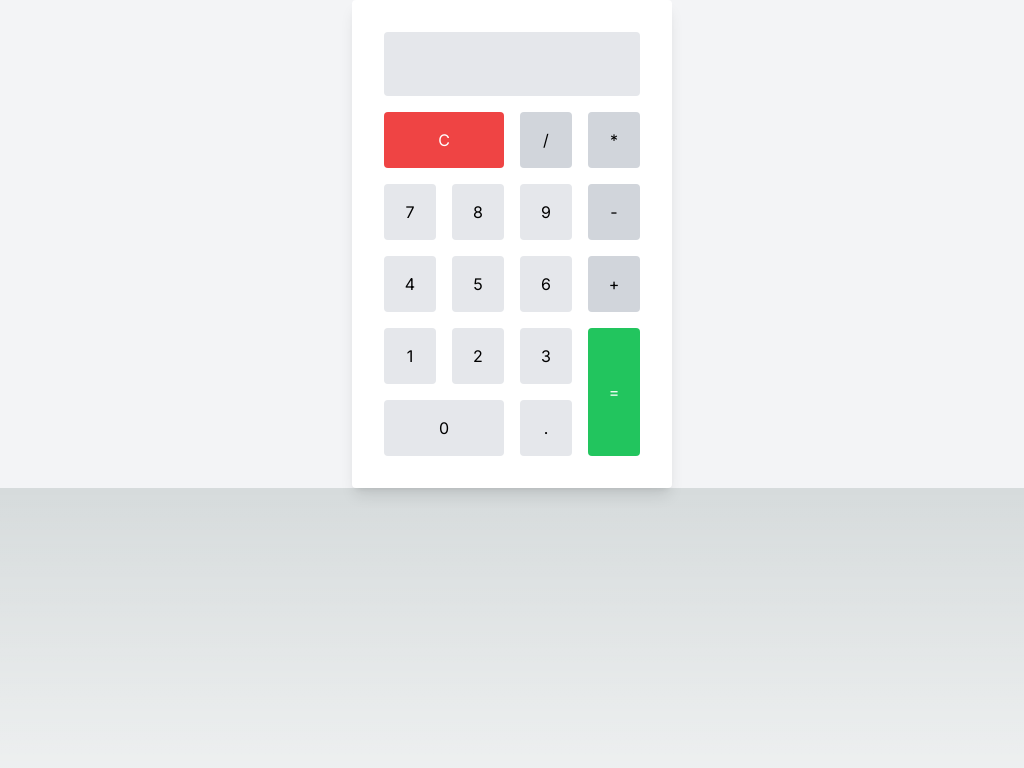
handles division by zero
Click the button "1".
click(410, 356)  # box [384,328,436,384]
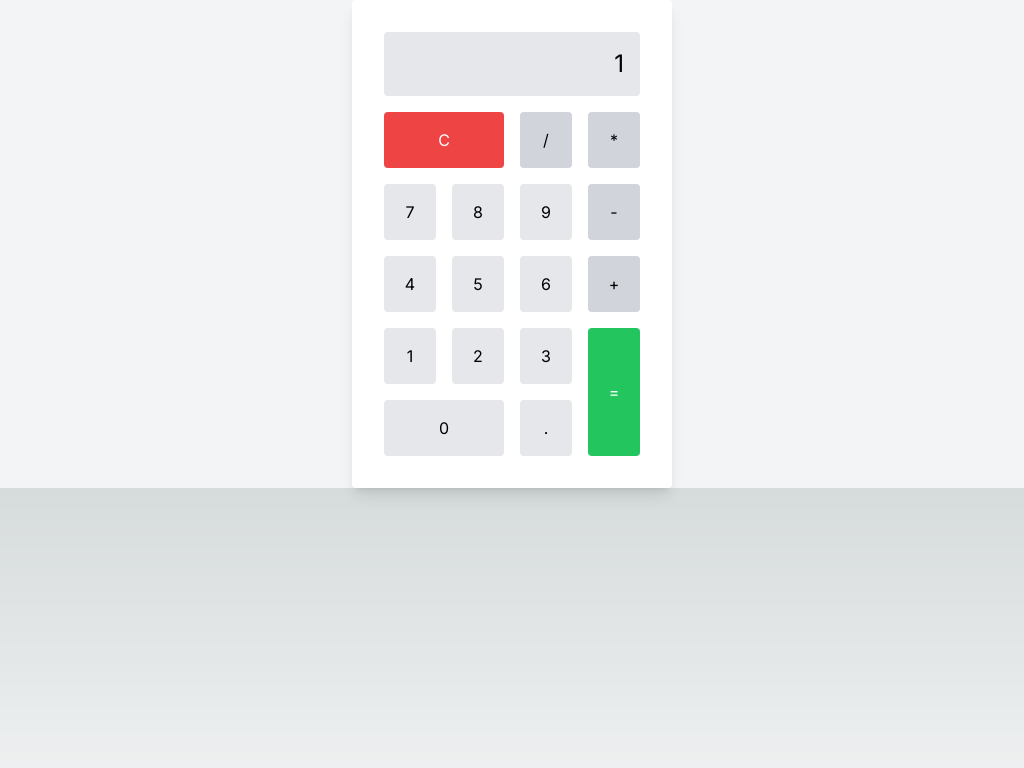
Click the button "/".
click(546, 140)  # box [520,112,572,168]
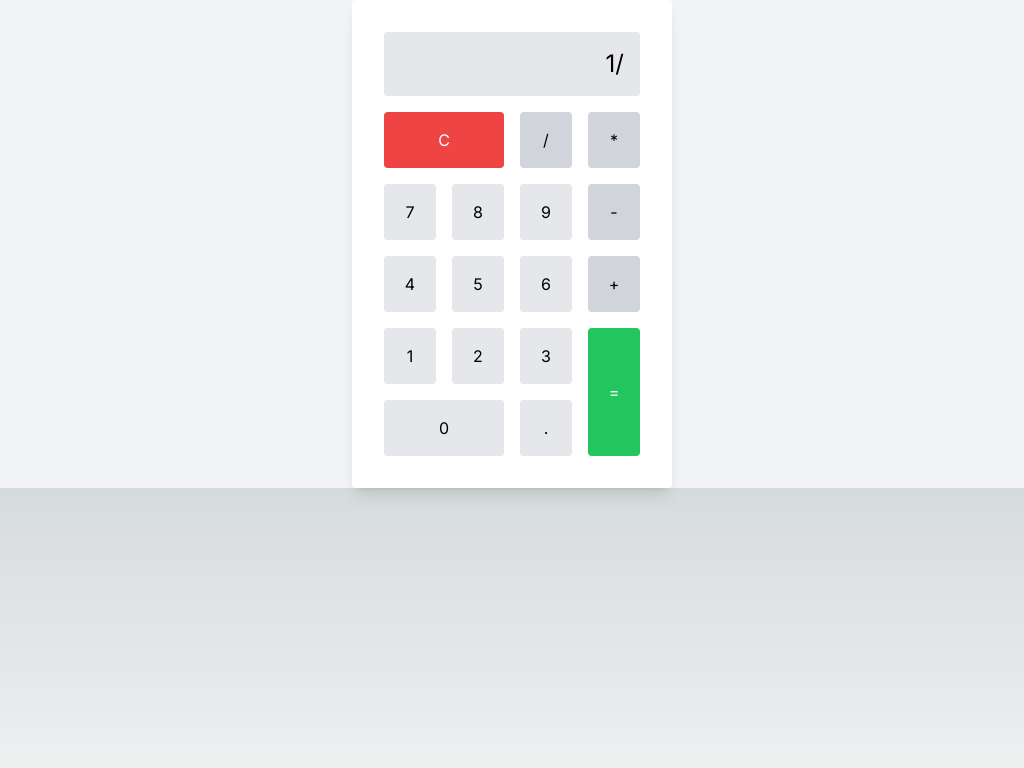
Click the button "0".
click(444, 428)  # box [384,400,504,456]
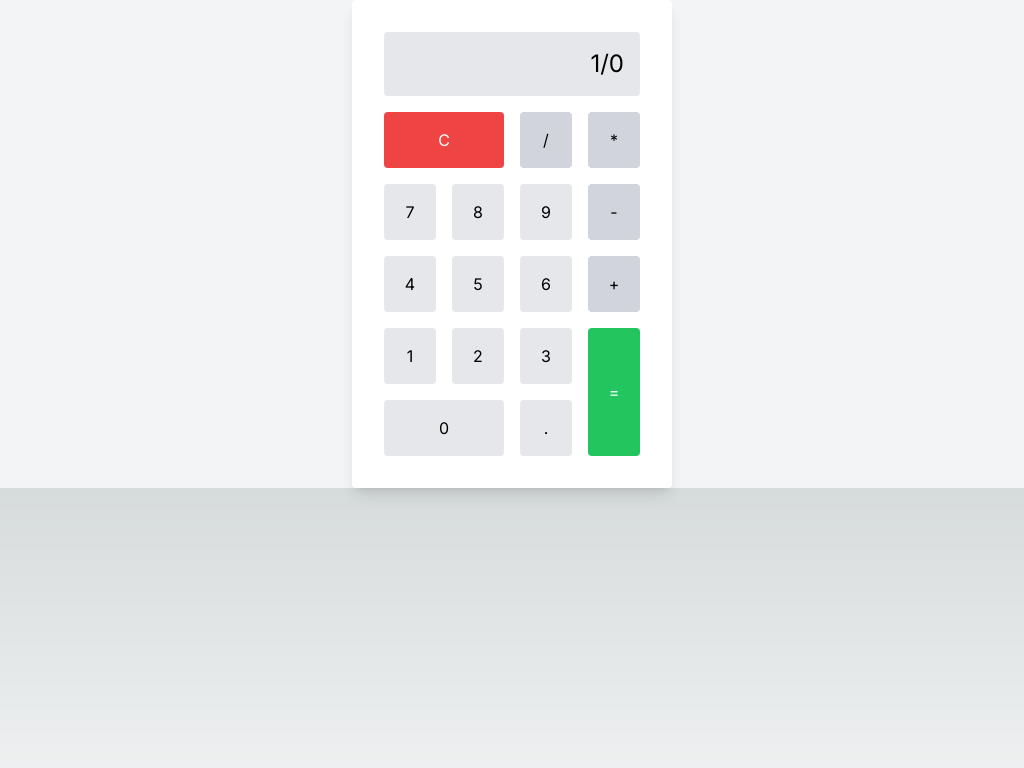
Click the button "=".
click(614, 392)  # box [588,328,640,456]
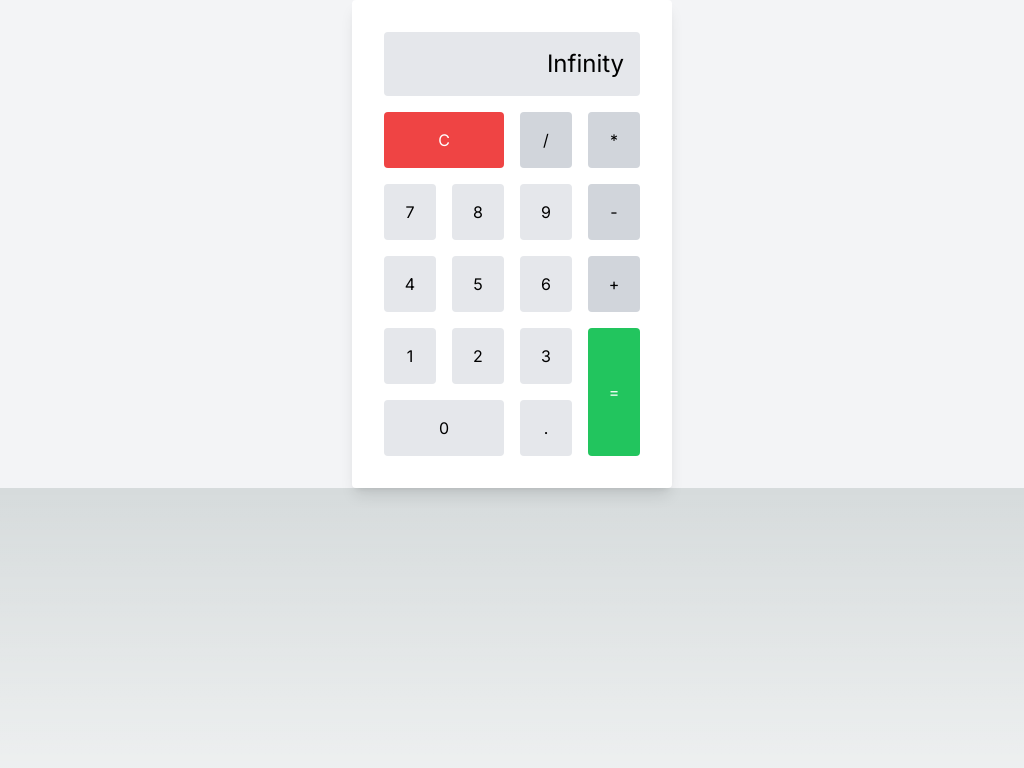
expect the field showing "Infinity" is shown: met, box [384,32,640,96]
